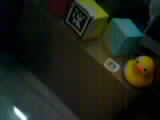duck: (116, 45, 149, 82)
